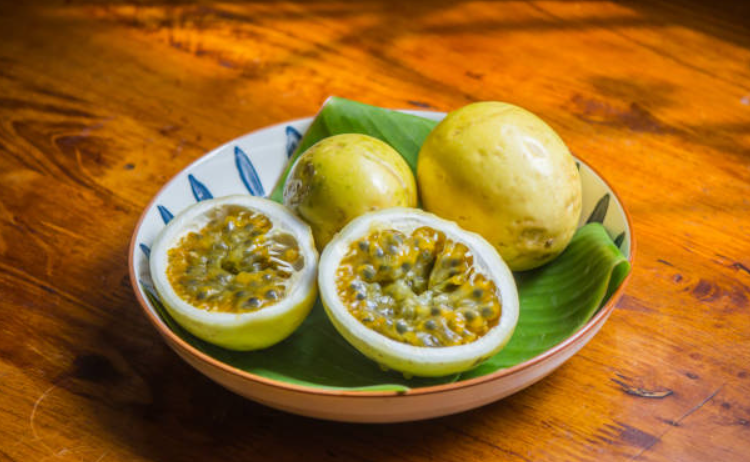maracuya: (413, 93, 585, 278)
